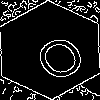O: (25, 25, 90, 84)
